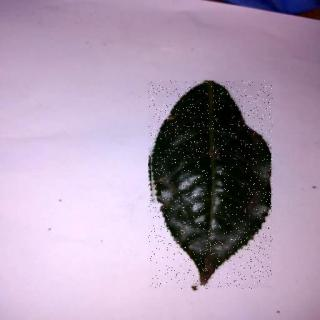Bird Eye Spot: (150, 83, 274, 291)
